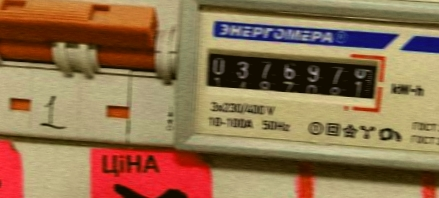0: (213, 51, 227, 72)
1: (353, 75, 366, 94)
3: (236, 55, 251, 76)
6: (283, 55, 298, 76)
7: (259, 54, 274, 76), (331, 60, 344, 82)
9: (307, 58, 320, 80)
screen: (198, 36, 391, 110)
